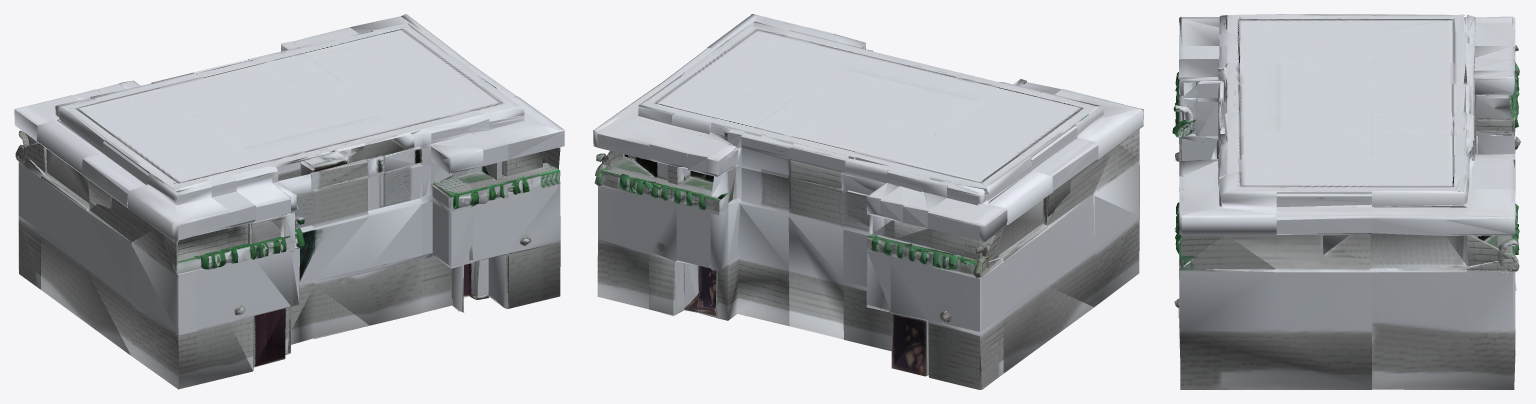
The model's file is placed_bld_556855840.glb.
The picture shows the model from 3 angles, left to right: view 1: azimuth 30°, elevation 25°; view 2: azimuth 150°, elevation 25°; view 3: azimuth 270°, elevation 25°; orthographic projection. The views are drawn at different scales.
Visible parts, largest first — view 1: bld_556855840; view 2: bld_556855840; view 3: bld_556855840.
Boxes of the visible parts, x1,y1,x2,y2 form: bld_556855840: (14,14,564,389); bld_556855840: (593,14,1143,389); bld_556855840: (1172,14,1520,389).
Bounding box in the file's own units: 15.52 × 6.8 × 11.35.
1 material, 1 textured.
